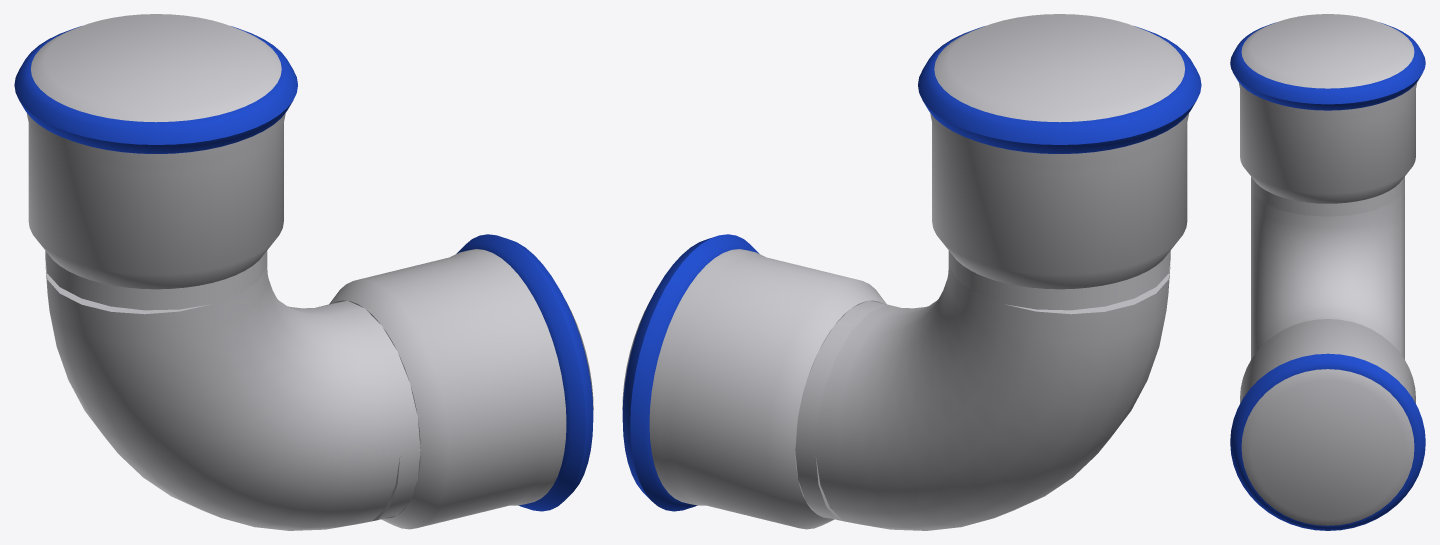
File: fitting_e90_35.glb
The picture shows the model from 3 angles, left to right: view 1: azimuth 30°, elevation 25°; view 2: azimuth 150°, elevation 25°; view 3: azimuth 270°, elevation 25°; orthographic projection. The views are drawn at different scales.
Parts seen in each view (by area): view 1: изгиб, раструб.001, раструб, кольцо пресс.001, кольцо пресс, корпус.001, корпус; view 2: изгиб, раструб.001, раструб, кольцо пресс.001, кольцо пресс, корпус.001, корпус; view 3: раструб, раструб.001, изгиб, кольцо пресс, кольцо пресс.001, корпус.001.
Boxes of the visible parts, x1,y1,x2,y2 form: изгиб: (45, 263, 400, 530); раструб.001: (27, 14, 285, 289); раструб: (329, 249, 593, 529); кольцо пресс.001: (14, 26, 297, 153); кольцо пресс: (456, 234, 593, 511); корпус.001: (45, 250, 267, 310); корпус: (319, 300, 420, 521); изгиб: (815, 263, 1170, 530); раструб.001: (930, 14, 1188, 289); раструб: (622, 249, 886, 529); кольцо пресс.001: (918, 26, 1201, 153); кольцо пресс: (622, 234, 759, 511); корпус.001: (948, 250, 1170, 310); корпус: (795, 300, 896, 521); раструб: (1240, 319, 1415, 525); раструб.001: (1238, 14, 1417, 203); изгиб: (1251, 186, 1404, 359); кольцо пресс: (1230, 353, 1425, 530); кольцо пресс.001: (1230, 22, 1425, 110); корпус.001: (1251, 177, 1404, 216).
Bounding box in the file's own units: 0.0992 × 0.0992 × 0.0483.
